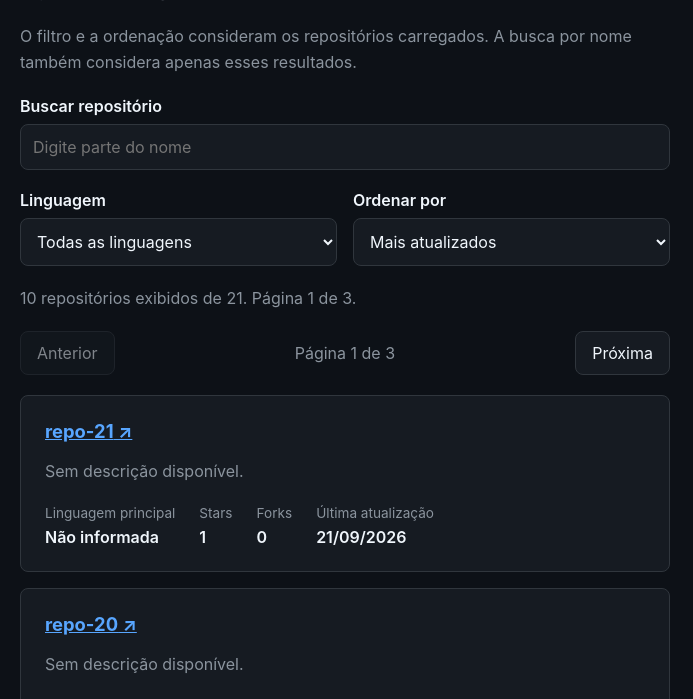
Test: filtra antes de paginar, reinicia a página e inclui linguagem não informada
(page scrolled)
Click the button "Próxima" at (623, 353), box [575, 331, 670, 375]
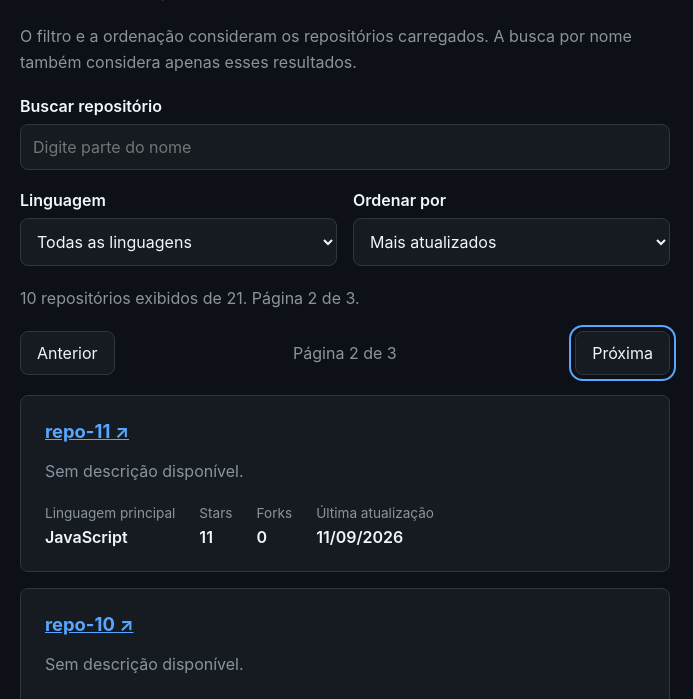
Select "JavaScript" in the dropdown labelled "Linguagem" at (178, 242), box [20, 218, 337, 266]
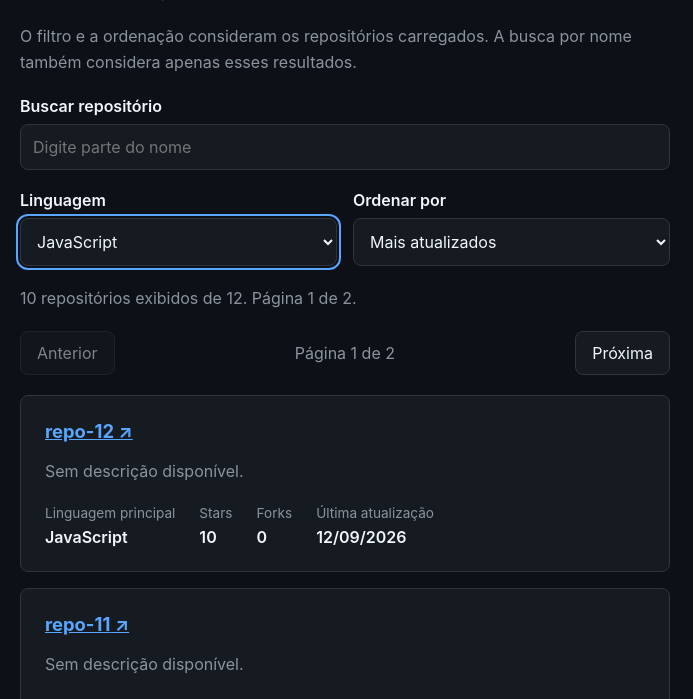
Now the navigation bar named "Paginação dos repositórios" shows "Página 1 de 2", box [20, 331, 670, 375]
Click the button "Próxima" at (623, 353), box [575, 331, 670, 375]
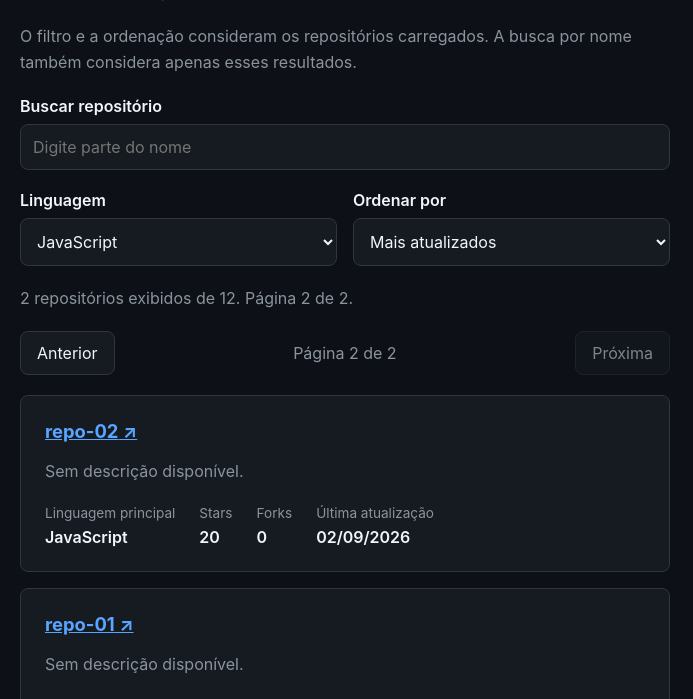
Select "Não informada" in the dropdown labelled "Linguagem" at (178, 242), box [20, 218, 337, 266]
(page scrolled)
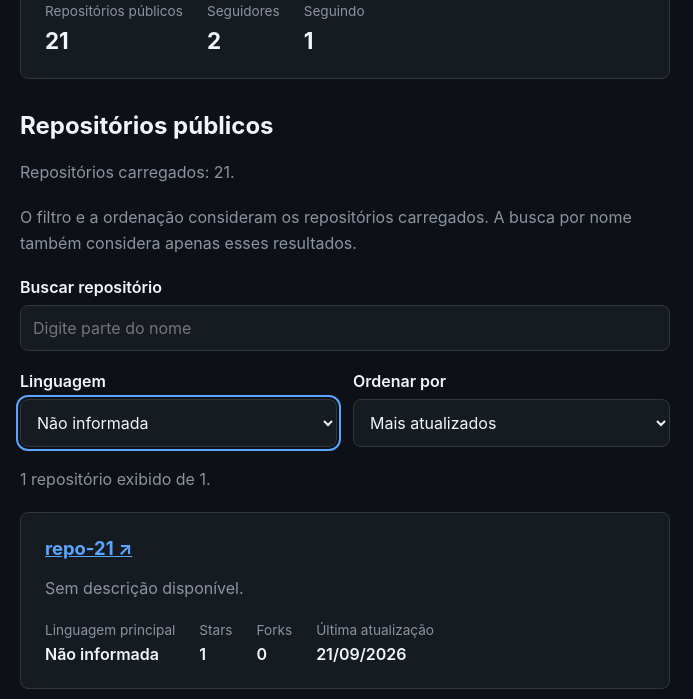
Now the number of list items is 1, box [20, 512, 670, 689]
Now the list item shows "repo-21", box [45, 537, 132, 559]
